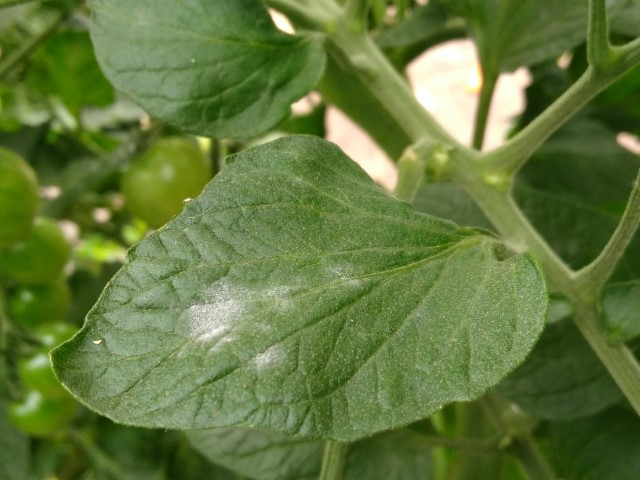oidio: (185, 282, 247, 339), (253, 277, 310, 321), (327, 267, 370, 295), (257, 343, 284, 372)
